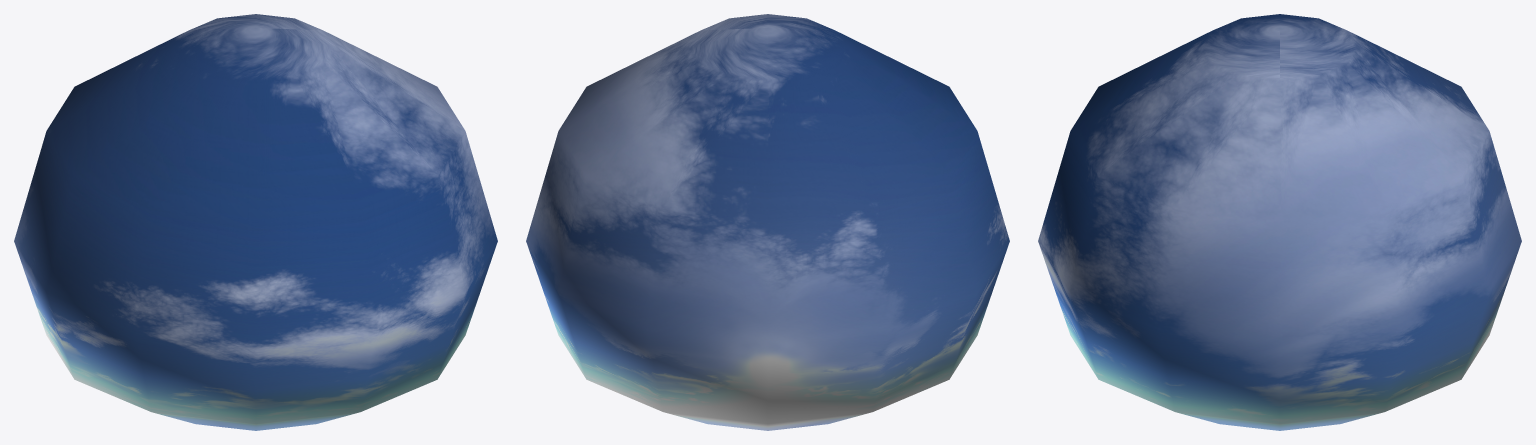
Rendered from skydome2.obj.
3 views of the same model, side by side, from view 1: azimuth 30°, elevation 25°; view 2: azimuth 150°, elevation 25°; view 3: azimuth 270°, elevation 25° (orthographic).
Parts seen in each view (by area): view 1: Kugel_Untitled; view 2: Kugel_Untitled; view 3: Kugel_Untitled.
Boxes of the visible parts, box(x1,y1,x2,y2) form: Kugel_Untitled: box(14, 14, 497, 430); Kugel_Untitled: box(526, 14, 1009, 430); Kugel_Untitled: box(1038, 14, 1521, 430).
Bounding box in the file's own units: 6.62 × 5.34 × 6.62.
Materials: 1 (1 with a texture image).
